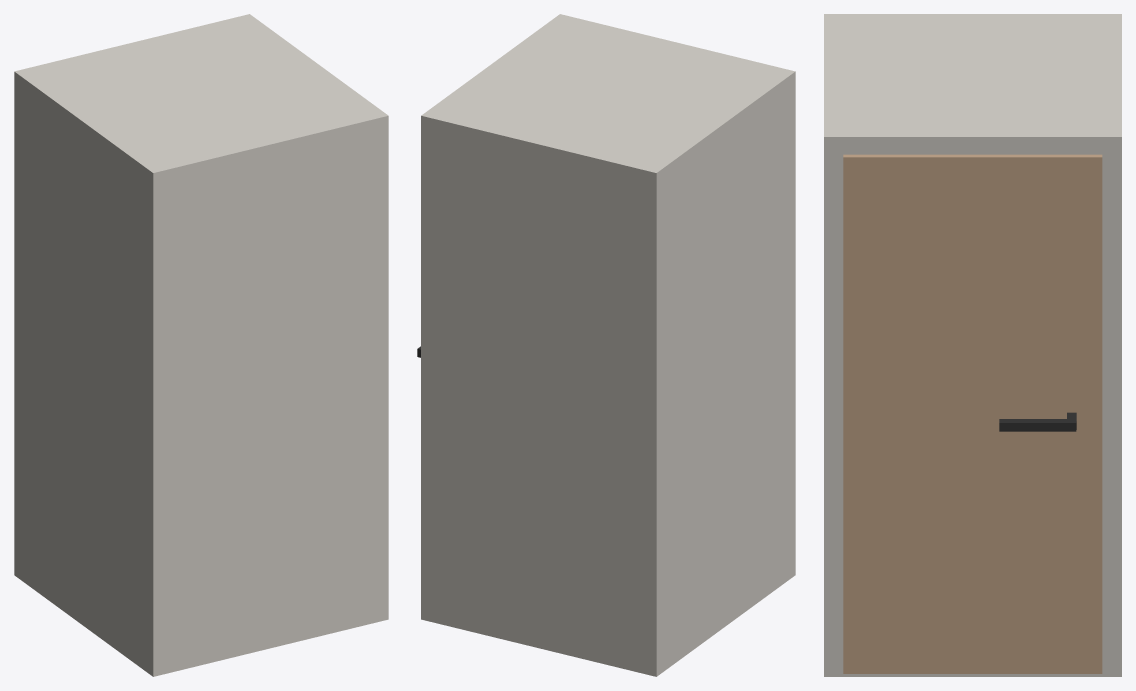
File: teleporter_1.Du51AaBr.glb
3 views of the same model, side by side, from view 1: azimuth 30°, elevation 25°; view 2: azimuth 150°, elevation 25°; view 3: azimuth 270°, elevation 25° (orthographic). The views are drawn at different scales.
Parts seen in each view (by area): view 1: base; view 2: base; view 3: blade, base, handle_1.
Boxes of the visible parts, x1,y1,x2,y2 form: base: [14, 14, 388, 676]; base: [421, 14, 795, 676]; blade: [843, 154, 1102, 673]; base: [824, 14, 1121, 676]; handle_1: [999, 412, 1076, 431].
Bounding box in the file's own units: 0.995 × 1.84 × 0.9199.
